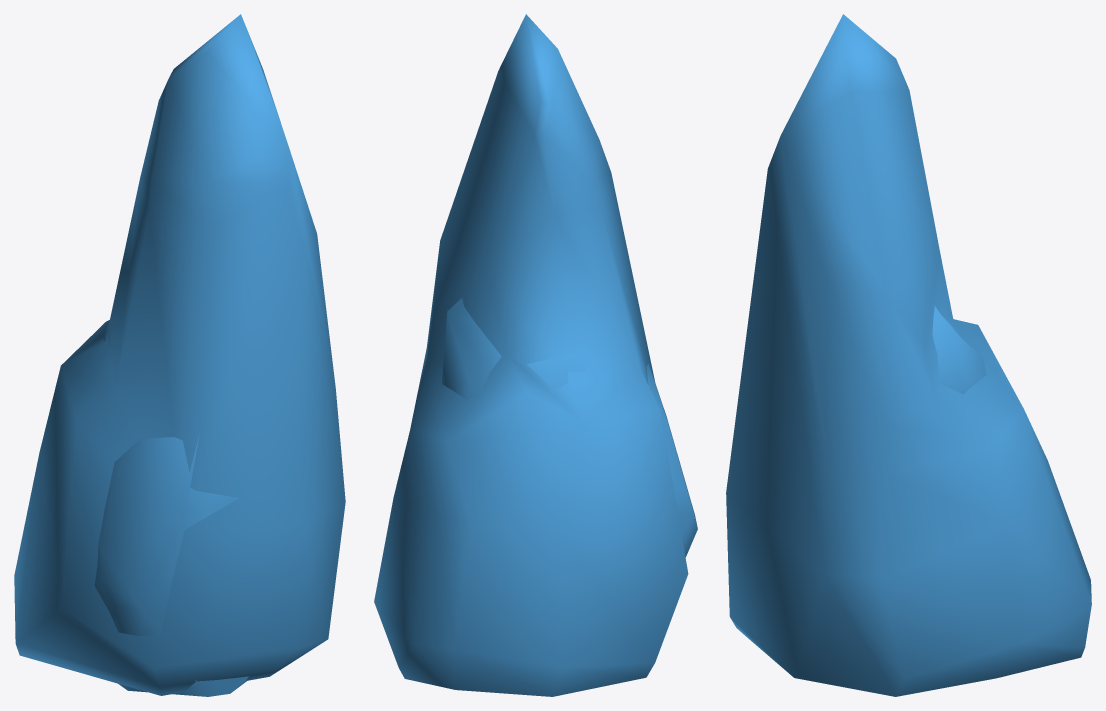
File: Wisdom_Ice_temp.fbx
3 renders of one model, left to right at view 1: azimuth 30°, elevation 25°; view 2: azimuth 150°, elevation 25°; view 3: azimuth 270°, elevation 25°, orthographic. The views are drawn at different scales.
Visible parts, largest first — view 1: Ice1_low, Ice2_low; view 2: Ice1_low, Ice3_low, Ice2_low; view 3: Ice1_low, Ice3_low.
Boxes of the visible parts, left/top/right/bottom form: Ice1_low: left=14, top=14, right=345, bottom=695; Ice2_low: left=94, top=434, right=248, bottom=696; Ice1_low: left=374, top=14, right=688, bottom=696; Ice3_low: left=442, top=298, right=587, bottom=399; Ice2_low: left=646, top=363, right=697, bottom=557; Ice1_low: left=726, top=14, right=1091, bottom=696; Ice3_low: left=932, top=306, right=986, bottom=394.
Bounding box in the file's own units: 771 × 1624 × 832.
